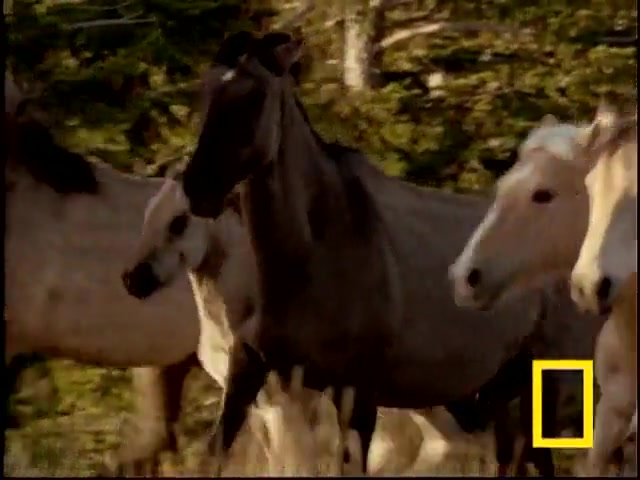horse: (182, 29, 637, 478)
